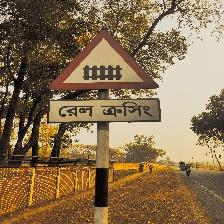Rail-crossing: (47, 29, 161, 127)
